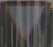Give way: (2, 0, 47, 46)
